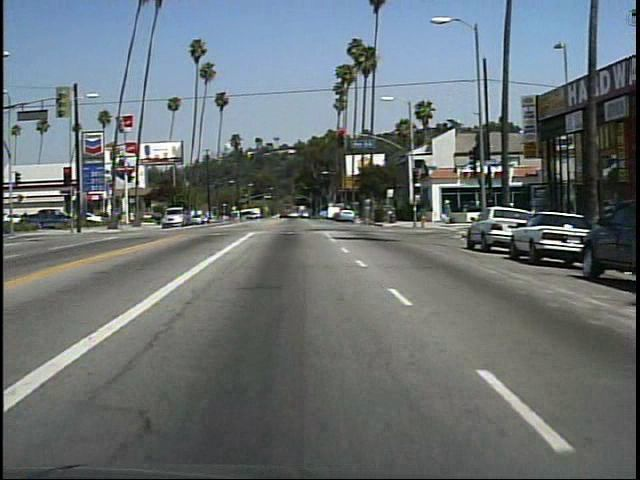person: (440, 197, 455, 227)
